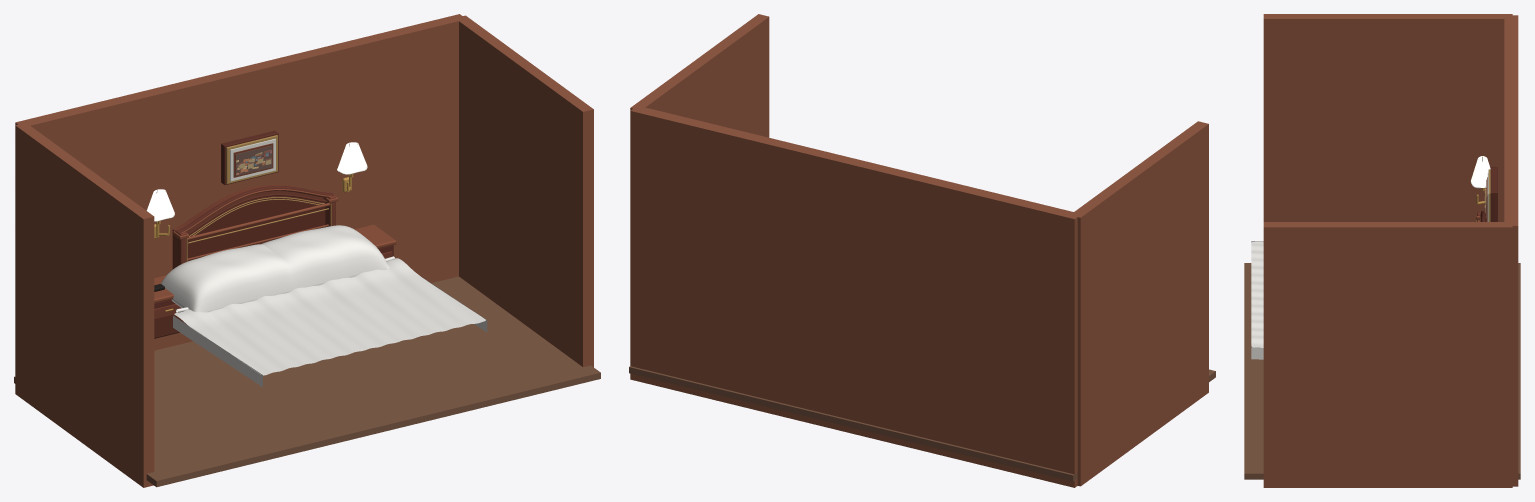
The model's file is scene-1-gpt6.glb.
The picture shows the model from 3 angles, left to right: view 1: azimuth 30°, elevation 25°; view 2: azimuth 150°, elevation 25°; view 3: azimuth 270°, elevation 25°; orthographic projection. The views are drawn at different scales.
Parts seen in each view (by area): view 1: rear plaster wall, floor, left wall return, right wall return, white duvet broad sculpted top, left plump white pillow, right plump white pillow, dark recessed arched panel, solid carved arched headboard, duvet draped side, outer arched crown heavy molding, cream flared fabric lampshade.001 (+2 smaller); view 2: rear plaster wall, left wall return, right wall return, floor; view 3: right wall return, left wall return, rear plaster wall, floor, white duvet broad sculpted top, cream flared fabric lampshade, painting outer dark wood frame.
Boxes of the visible parts, x1=… form: rear plaster wall: x1=15, y1=14, x2=466, y2=350; floor: x1=14, y1=276, x2=600, y2=487; left wall return: x1=15, y1=124, x2=154, y2=487; right wall return: x1=455, y1=15, x2=593, y2=367; white duvet broad sculpted top: x1=174, y1=258, x2=485, y2=375; left plump white pillow: x1=161, y1=244, x2=294, y2=312; right plump white pillow: x1=262, y1=225, x2=389, y2=289; dark recessed arched panel: x1=187, y1=198, x2=325, y2=258; solid carved arched headboard: x1=172, y1=185, x2=327, y2=269; duvet draped side: x1=173, y1=315, x2=262, y2=387; outer arched crown heavy molding: x1=177, y1=186, x2=333, y2=232; cream flared fabric lampshade.001: x1=337, y1=142, x2=366, y2=173; rear plaster wall: x1=630, y1=105, x2=1081, y2=487; left wall return: x1=1073, y1=121, x2=1208, y2=486; right wall return: x1=630, y1=14, x2=769, y2=137; floor: x1=629, y1=366, x2=1215, y2=481; right wall return: x1=1263, y1=222, x2=1512, y2=487; left wall return: x1=1263, y1=14, x2=1512, y2=221; rear plaster wall: x1=1504, y1=15, x2=1518, y2=486; floor: x1=1244, y1=263, x2=1520, y2=479; white duvet broad sculpted top: x1=1251, y1=242, x2=1263, y2=347; cream flared fabric lampshade: x1=1471, y1=156, x2=1490, y2=187; painting outer dark wood frame: x1=1490, y1=167, x2=1497, y2=221.
Bounding box in the file's own units: 9.12 × 5.2 × 5.
